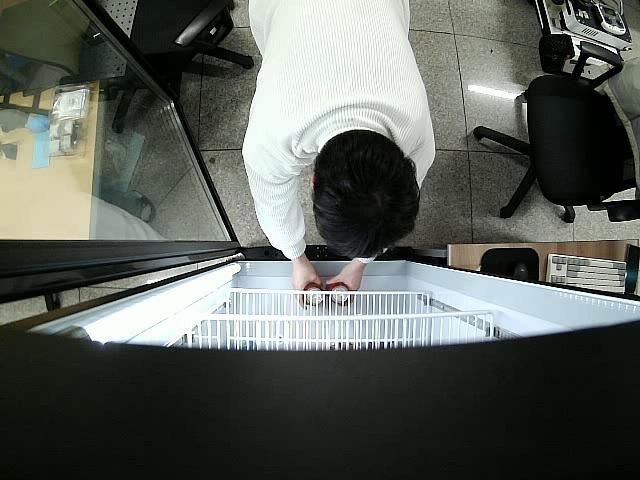11_cocaColaZero: (326, 284, 353, 308), (300, 284, 324, 308)
